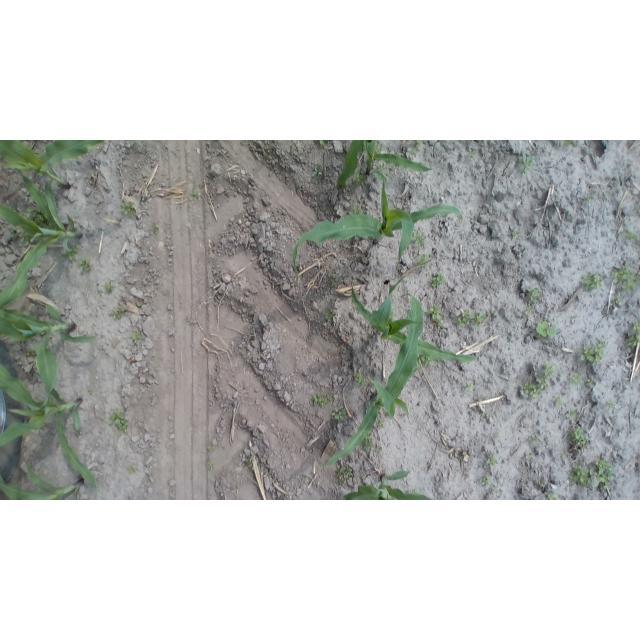Maize: (324, 280, 440, 466), (290, 186, 467, 278), (1, 337, 98, 492), (349, 279, 482, 365), (0, 171, 82, 310), (337, 141, 440, 214), (0, 140, 104, 190), (0, 303, 96, 349), (342, 468, 436, 500), (0, 464, 82, 500), (338, 140, 367, 189)
Weeds: (520, 361, 556, 397), (611, 265, 637, 294), (592, 458, 614, 490), (568, 464, 592, 489), (579, 341, 605, 364), (109, 408, 130, 435), (579, 272, 604, 292), (26, 207, 48, 228), (459, 311, 485, 328), (569, 426, 588, 449), (535, 321, 558, 339), (338, 466, 355, 487), (626, 321, 638, 349), (12, 232, 35, 246), (521, 383, 541, 399), (412, 231, 428, 250), (520, 153, 534, 174), (429, 272, 446, 288), (120, 200, 136, 216), (313, 393, 331, 407), (527, 286, 541, 304), (331, 407, 347, 422), (430, 304, 442, 324), (362, 437, 377, 452), (65, 246, 80, 261), (416, 253, 431, 267), (78, 259, 92, 273), (353, 372, 366, 387), (312, 163, 324, 178), (410, 141, 423, 154), (528, 434, 541, 446), (103, 281, 115, 294), (132, 330, 145, 342), (111, 307, 124, 319), (568, 372, 580, 385), (625, 230, 637, 242), (486, 454, 498, 466), (420, 355, 434, 365), (324, 308, 335, 320), (553, 396, 565, 407), (468, 149, 479, 160), (353, 172, 363, 184), (525, 305, 535, 316), (189, 187, 199, 198), (350, 206, 361, 216), (585, 377, 595, 388), (480, 475, 490, 486), (567, 409, 577, 419), (128, 464, 139, 473), (546, 492, 558, 500), (153, 224, 160, 237), (466, 381, 475, 391), (207, 444, 217, 453), (328, 277, 337, 287), (25, 350, 35, 359), (244, 456, 253, 466), (207, 461, 215, 472), (565, 140, 576, 148), (316, 141, 328, 148), (607, 400, 616, 409), (378, 162, 387, 171), (512, 230, 521, 238), (615, 295, 622, 305), (267, 145, 275, 153), (379, 419, 386, 428), (535, 481, 544, 488), (525, 452, 532, 459), (492, 488, 499, 495), (132, 141, 141, 146)
